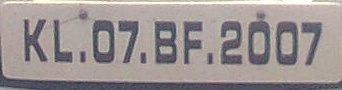character: (21, 17, 50, 63), (152, 19, 178, 64), (219, 19, 242, 65), (91, 19, 115, 63), (275, 20, 298, 65), (246, 21, 270, 64), (300, 20, 322, 66), (117, 19, 139, 64), (52, 16, 72, 64), (182, 19, 202, 64)
